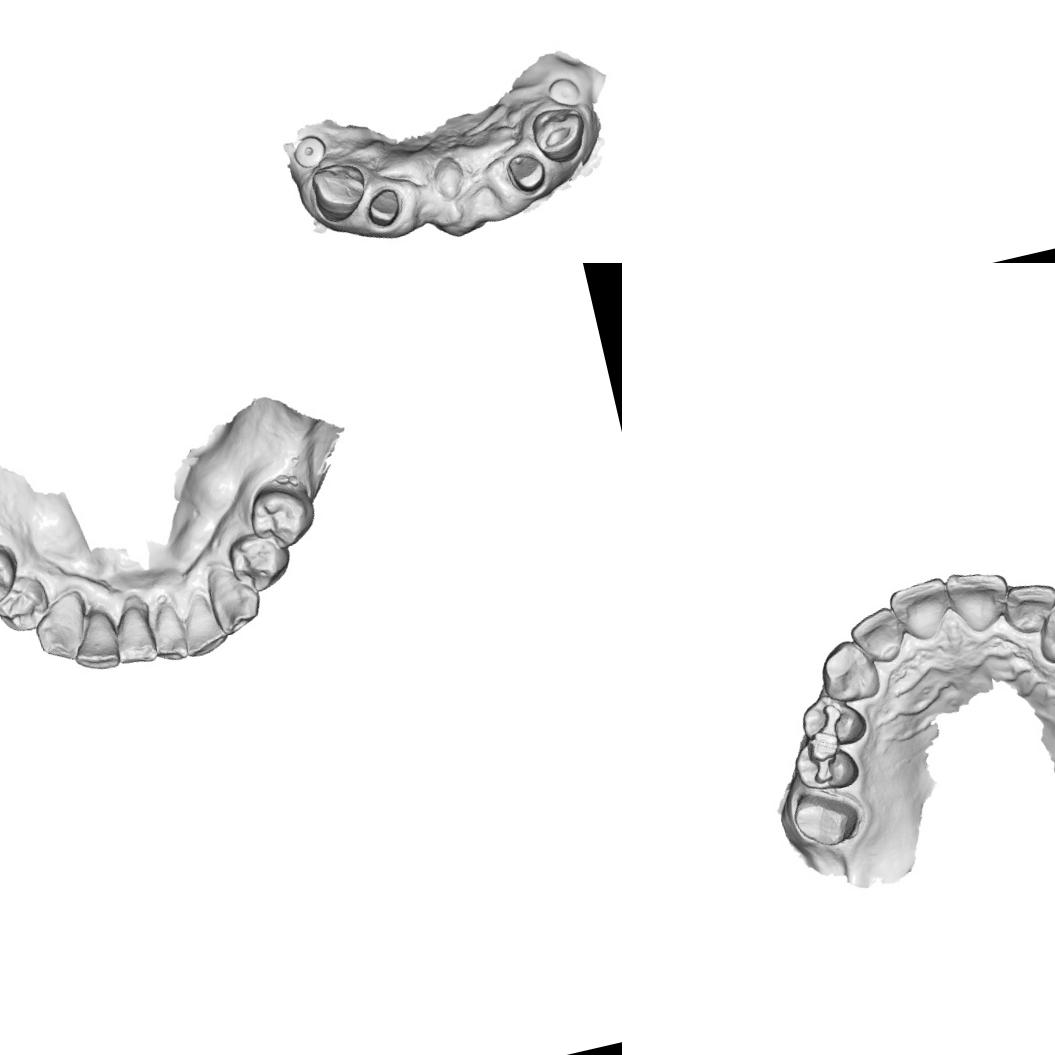canine: (26, 588, 98, 670), (812, 631, 886, 710), (200, 558, 269, 642), (306, 158, 374, 228), (528, 101, 593, 169), (1028, 593, 1055, 670)
crown: (782, 776, 870, 858), (501, 148, 549, 198), (362, 184, 405, 230)
implant: (290, 131, 330, 172)
incisor: (940, 558, 1019, 640), (885, 573, 962, 649), (63, 602, 130, 681), (104, 594, 167, 673), (172, 585, 234, 664), (843, 602, 911, 671), (140, 594, 198, 670), (999, 575, 1055, 640)
inlay: (803, 698, 854, 751), (803, 736, 844, 786)
premolar: (241, 476, 323, 558), (222, 524, 298, 599), (0, 570, 54, 642), (0, 539, 26, 617)
